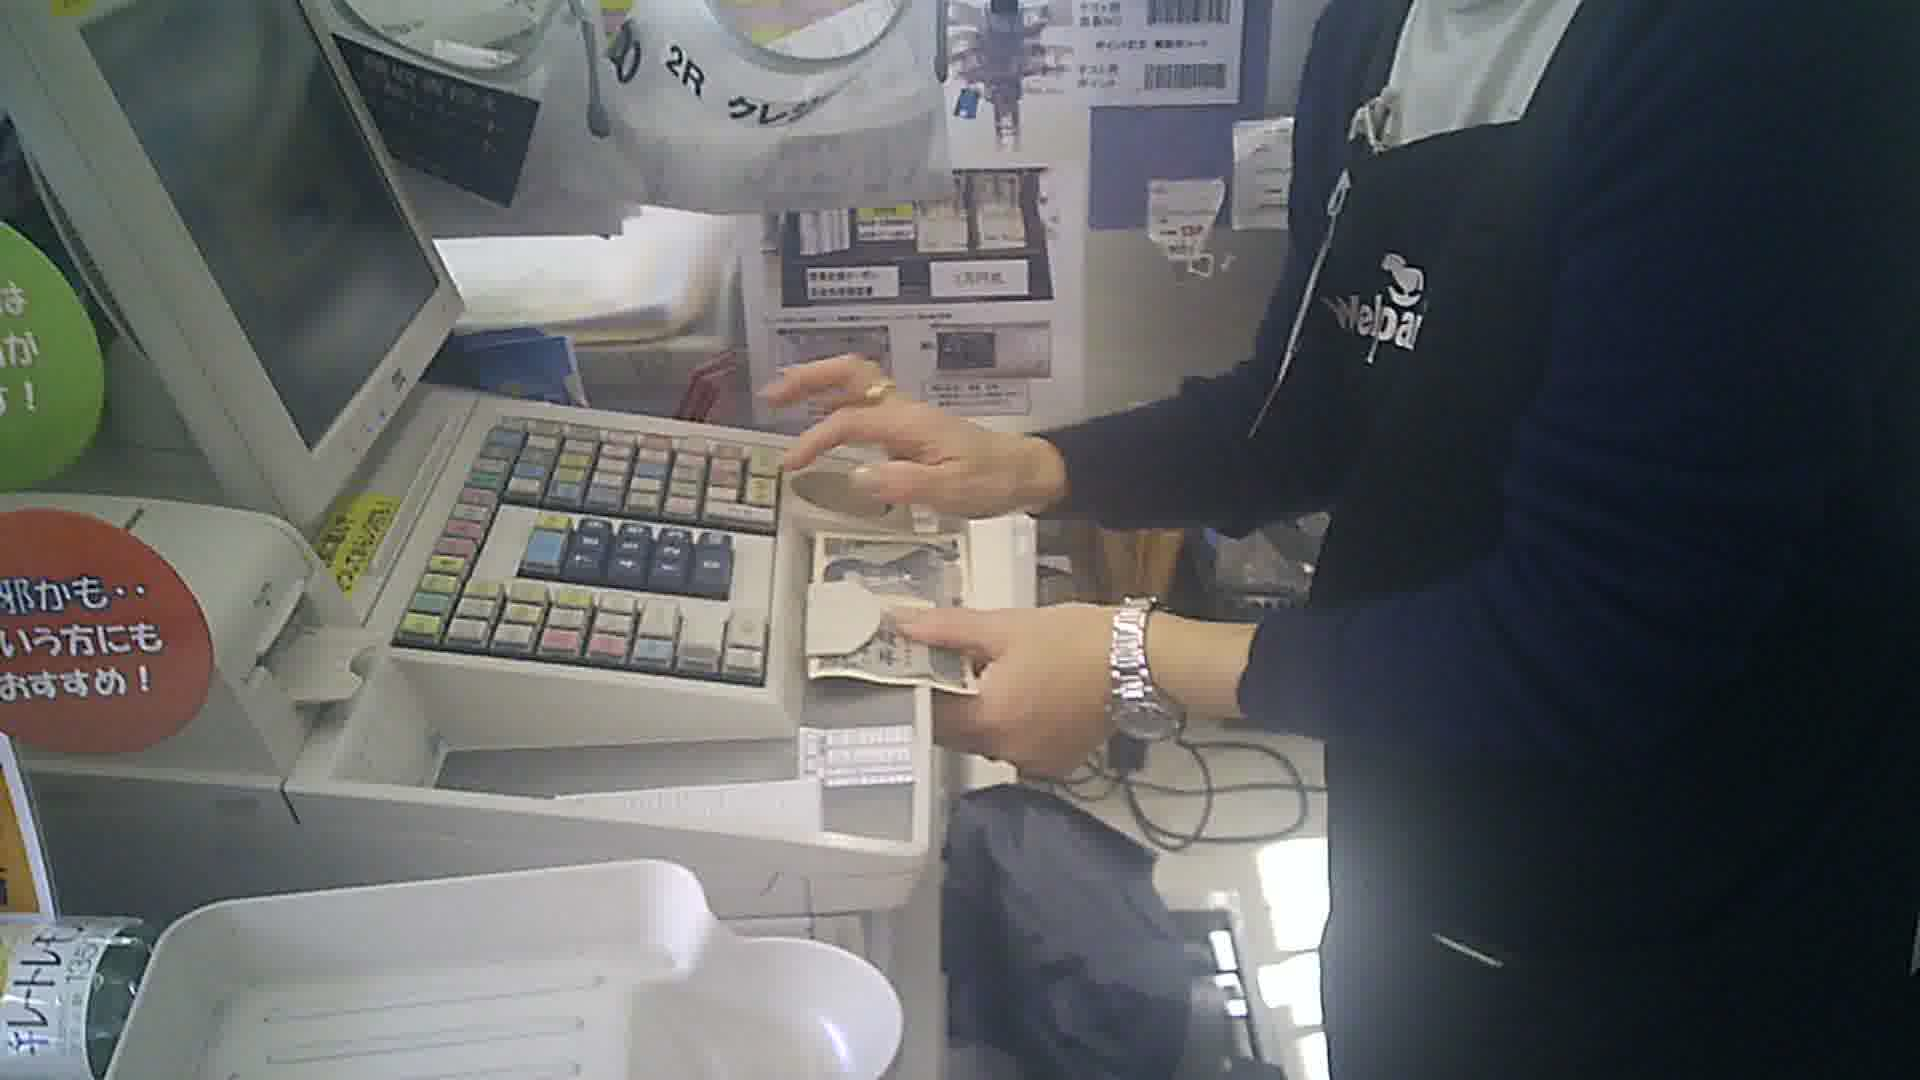1,000 Yen: (800, 516, 994, 698)
